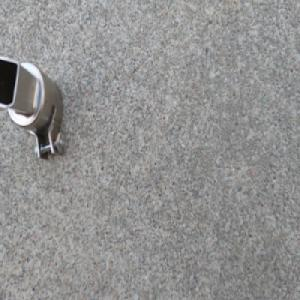MetalPart: (0, 54, 65, 162)
